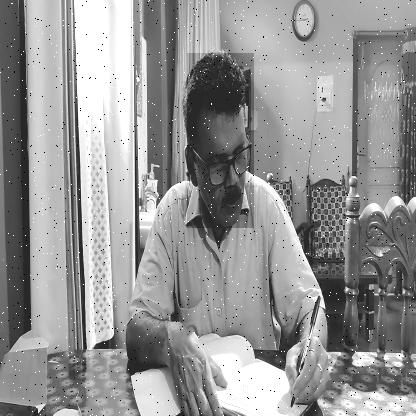Normal: (187, 53, 254, 228)
